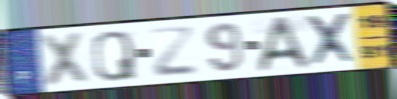9: (203, 21, 244, 74)
A: (256, 14, 313, 74)
Q: (91, 29, 139, 83)
X: (303, 11, 360, 69), (37, 29, 90, 89)
Z: (147, 26, 199, 79)
